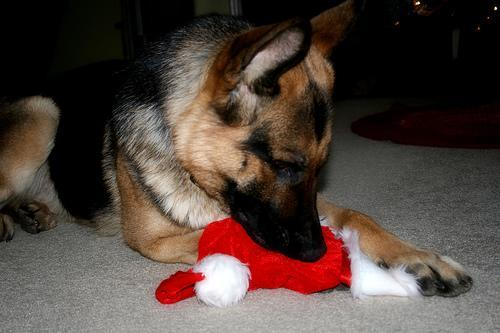German_shepherd: (0, 0, 474, 298)
